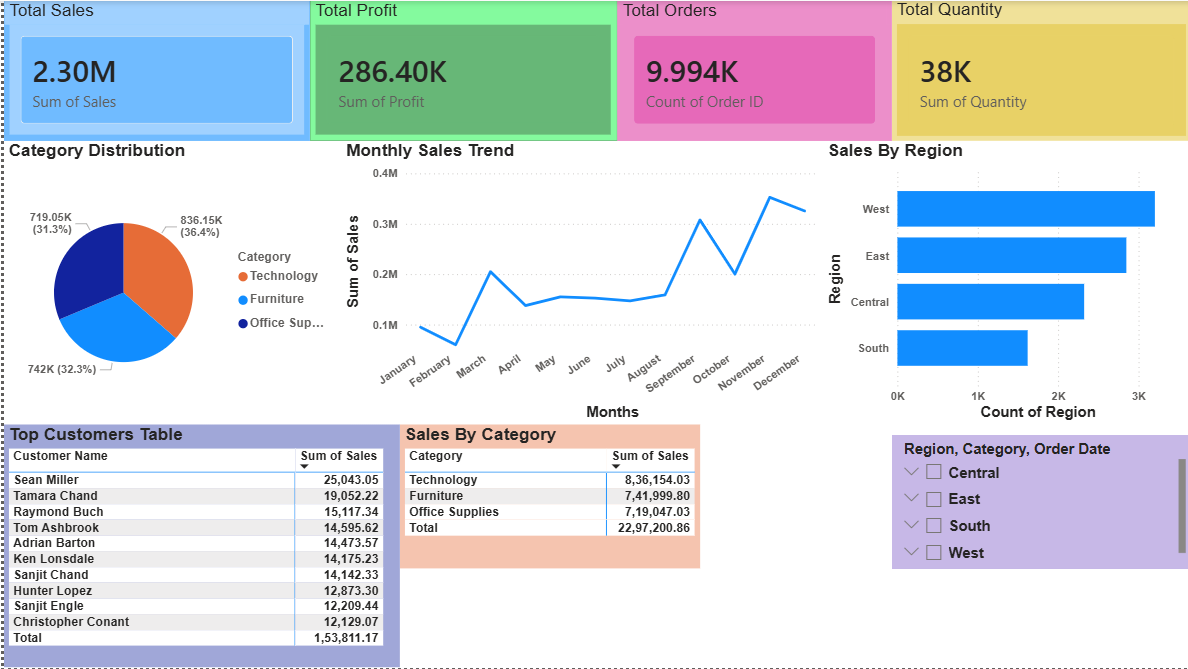

What the dashboard file says about the page in this screenshot:
{"tool":"powerbi","page":{"name":"Sales Analysis Reports","canvas":[1280,720],"ordinal":0},"visuals":[{"type":"cardVisual","title":"Total Sales","fields":{"Data":["Sum(cleaned_sales_data xlsm - superstore.Sales)"]},"box":[0,0,330.3,152.2],"z":0},{"type":"cardVisual","title":"Total Profit","fields":{"Data":["Sum(cleaned_sales_data xlsm - superstore.Profit)"]},"box":[330.3,0,331.9,152.2],"z":1000},{"type":"cardVisual","title":"Total Quantity","fields":{"Data":["Sum(cleaned_sales_data xlsm - superstore.Quantity)"]},"box":[958.6,0,322.2,152.2],"z":2000},{"type":"cardVisual","title":"Total Orders","fields":{"Data":["CountNonNull(cleaned_sales_data xlsm - superstore.Order ID)"]},"box":[662.3,0,296.3,152.2],"z":3000},{"type":"clusteredBarChart","title":"Sales By Region","fields":{"Category":["cleaned_sales_data xlsm - superstore.Region"],"Y":["CountNonNull(cleaned_sales_data xlsm - superstore.Region)"]},"box":[884.1,152.2,396.7,306],"z":4000},{"type":"lineChart","title":"Monthly Sales Trend","fields":{"Category":["cleaned_sales_data xlsm - superstore.Order Date.Variation.Date Hierarchy.Month"],"Y":["Sum(cleaned_sales_data xlsm - superstore.Sales)"]},"box":[364.3,152.2,519.8,306],"z":5000},{"type":"pieChart","title":"Category Distribution","fields":{"Category":["cleaned_sales_data xlsm - superstore.Category"],"Y":["Sum(cleaned_sales_data xlsm - superstore.Sales)"]},"box":[0,152.2,364.3,306],"z":6000},{"type":"pivotTable","title":"Top Customers Table","fields":{"Rows":["cleaned_sales_data xlsm - superstore.Customer Name"],"Values":["Sum(cleaned_sales_data xlsm - superstore.Sales)"]},"box":[0,458.2,427.5,262.3],"z":6001},{"type":"slicer","fields":{"Values":["cleaned_sales_data xlsm - superstore.Region","cleaned_sales_data xlsm - superstore.Category","cleaned_sales_data xlsm - superstore.Order Date"]},"box":[958.6,469.6,322.2,144.1],"z":6002},{"type":"pivotTable","title":"Sales By Category","fields":{"Rows":["cleaned_sales_data xlsm - superstore.Category"],"Values":["Sum(cleaned_sales_data xlsm - superstore.Sales)"]},"box":[427.5,458.2,323.8,155.4],"z":6003}]}

Visuals, with their boxes in screenshot pixels (x1, y1, x2, y2), scaled from the page's 1280x720 canvas onto the 1188x669 screenshot:
"Total Sales" cardVisual: 0, 0, 307, 141
"Total Profit" cardVisual: 307, 0, 615, 141
"Total Quantity" cardVisual: 890, 0, 1187, 141
"Total Orders" cardVisual: 615, 0, 890, 141
"Sales By Region" clusteredBarChart: 821, 141, 1187, 426
"Monthly Sales Trend" lineChart: 338, 141, 821, 426
"Category Distribution" pieChart: 0, 141, 338, 426
"Top Customers Table" pivotTable: 0, 426, 397, 668
slicer - cleaned_sales_data xlsm - superstore.Region x cleaned_sales_data xlsm - superstore.Category: 890, 436, 1187, 570
"Sales By Category" pivotTable: 397, 426, 697, 570
